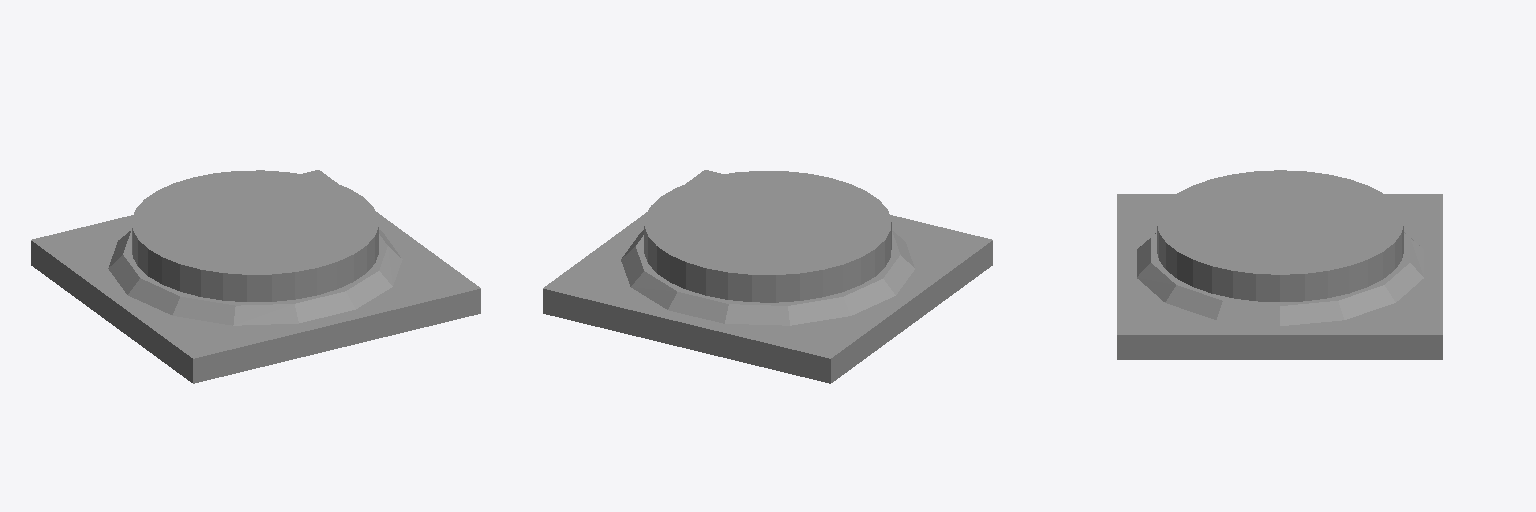
The model's file is button.obj.
The picture shows the model from 3 angles: view 1: azimuth 30°, elevation 25°; view 2: azimuth 150°, elevation 25°; view 3: azimuth 270°, elevation 25°; orthographic projection.
Parts seen in each view (by area): view 1: Cylinder; view 2: Cylinder; view 3: Cylinder.
Boxes of the visible parts, x1,y1,x2,y2 form: Cylinder: [31, 170, 480, 383]; Cylinder: [543, 170, 992, 383]; Cylinder: [1117, 170, 1442, 359].
Size of the model in its own units: 1.28 by 0.2823 by 1.25.